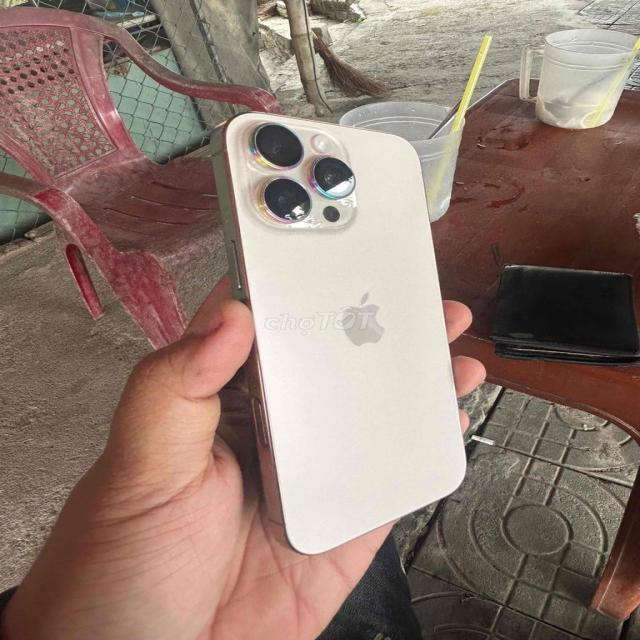gen_16: (212, 112, 464, 554)
